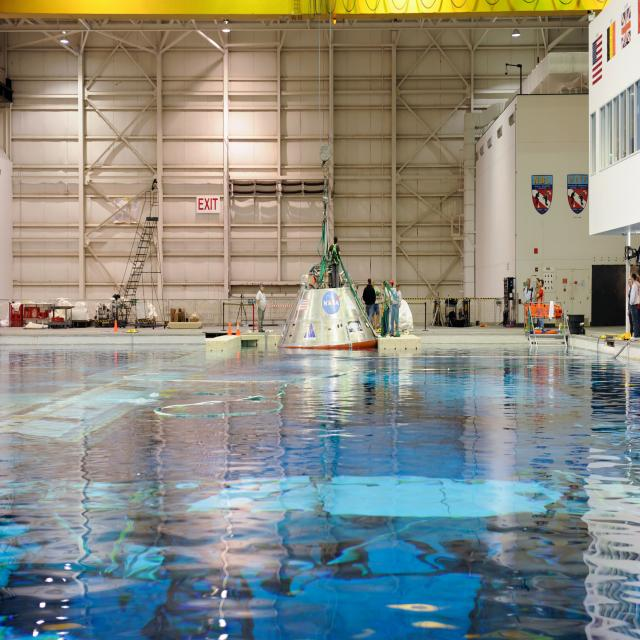Orion_capsule_mockup_(WEST)_located_on_far_end_of_pool: (276, 260, 378, 351)
